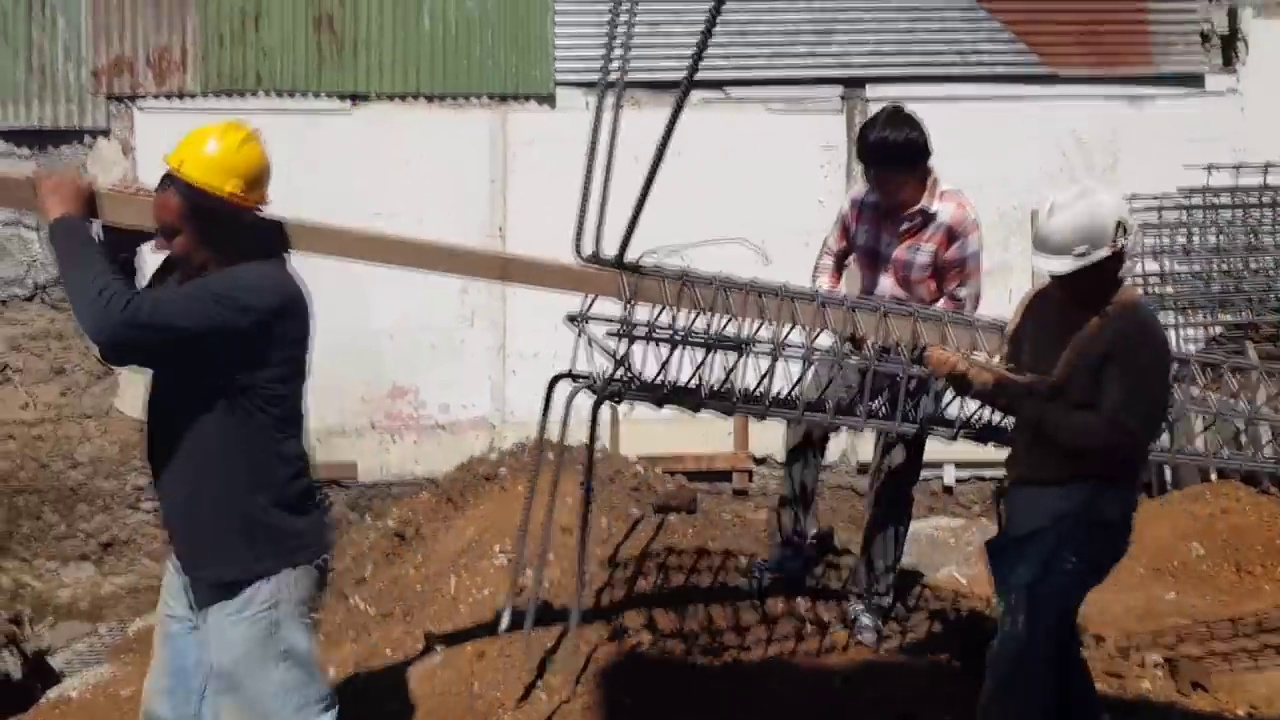helmet: (160, 119, 278, 218), (1020, 182, 1136, 279)
helmet-off: (851, 98, 951, 219)
helmet-on: (145, 110, 268, 268), (1015, 178, 1129, 323)
person: (43, 90, 321, 720), (948, 138, 1172, 695), (805, 100, 989, 693)
